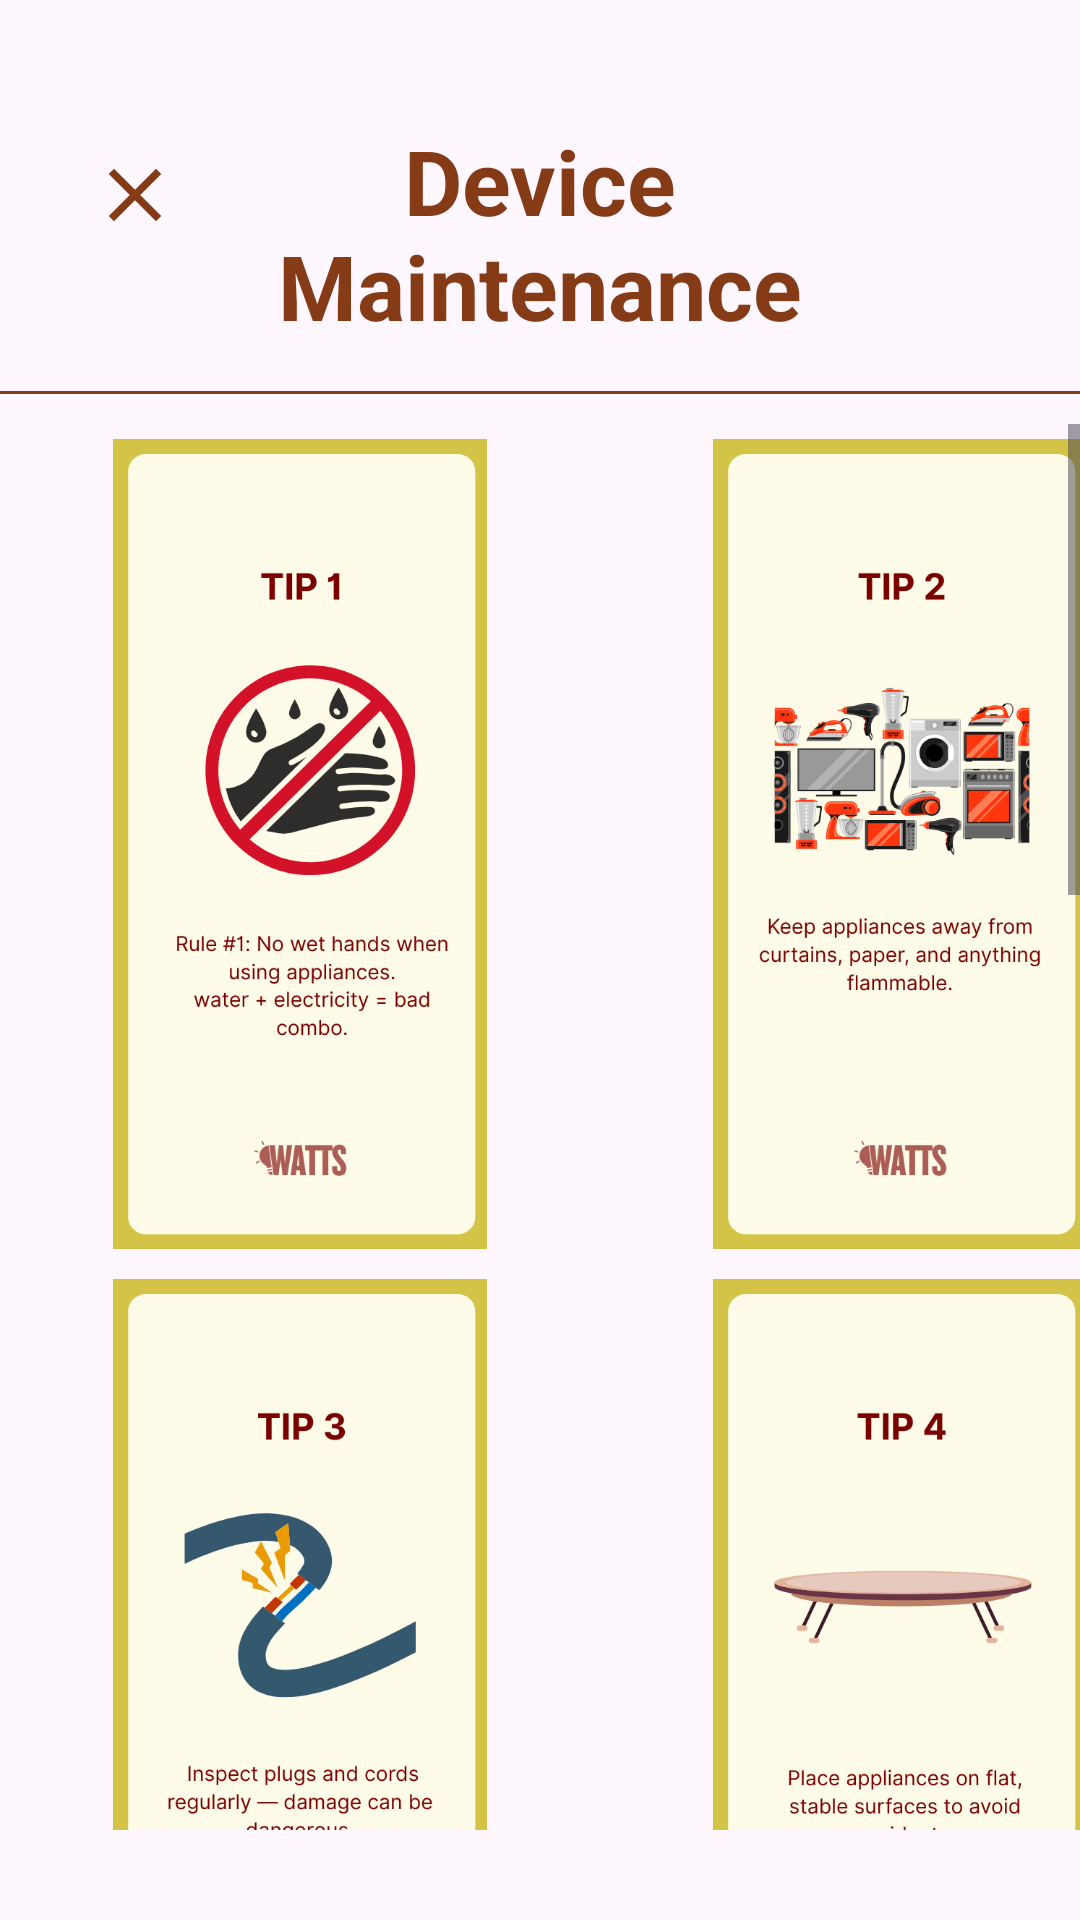

Screen size 1080px x 1920px. Icon name, then its center in pixels as (x,y):
close: (135,195)
